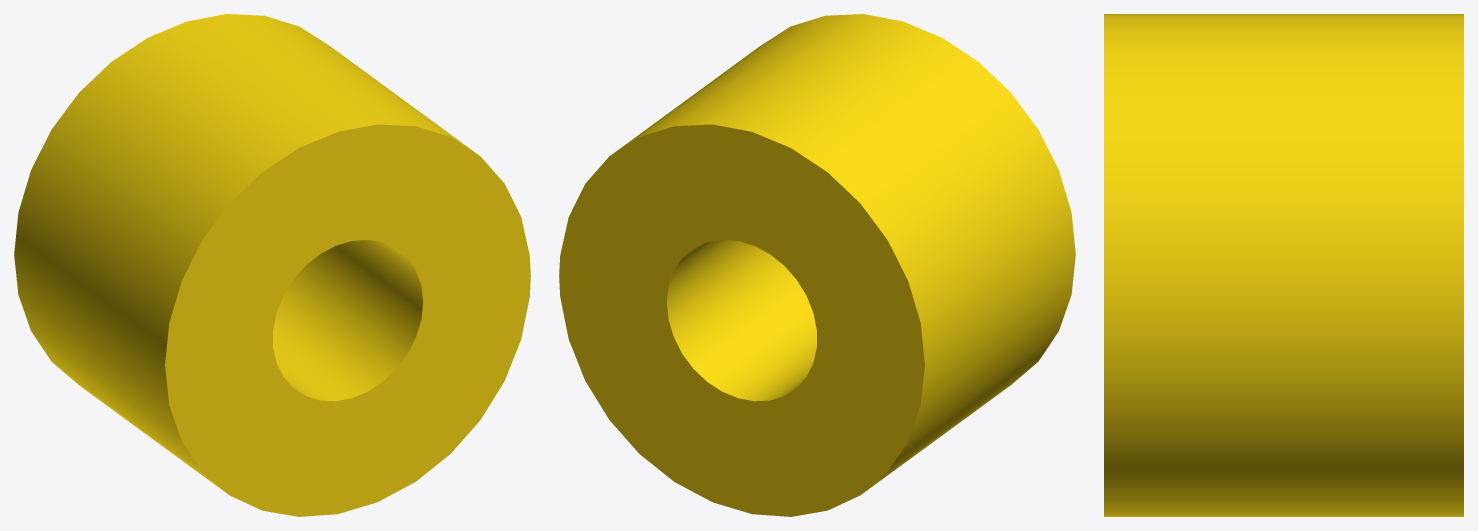
3 renders of one model, left to right at view 1: azimuth 30°, elevation 25°; view 2: azimuth 150°, elevation 25°; view 3: azimuth 270°, elevation 25°, orthographic. The views are drawn at different scales.
Visible parts, largest first — view 1: mesh55423, mesh55422, mesh55425; view 2: mesh55424, mesh55422, mesh55425; view 3: mesh55422.
Part boxes in pixels (box(x1,y1,x2,y2)): mesh55423: box(165, 124, 530, 516); mesh55422: box(14, 14, 477, 493); mesh55425: box(273, 239, 423, 401); mesh55424: box(559, 124, 924, 516); mesh55422: box(612, 14, 1075, 493); mesh55425: box(666, 239, 816, 401); mesh55422: box(1104, 14, 1463, 516).
Bounding box in the file's own units: 0.00889 × 0.00888 × 0.00635.
